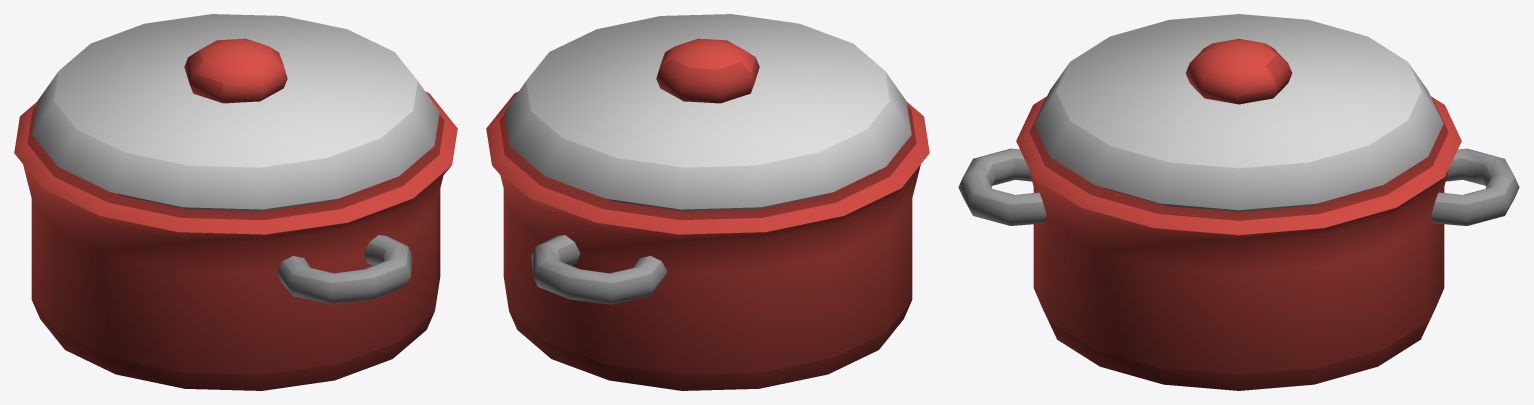
Rendered from pot.fbx.
The picture shows the model from 3 angles, left to right: view 1: azimuth 30°, elevation 25°; view 2: azimuth 150°, elevation 25°; view 3: azimuth 270°, elevation 25°; orthographic projection.
Visible parts, largest first — view 1: Circle; view 2: Circle; view 3: Circle.
Part boxes in pixels (x1,y1,x2,y2): Circle: [14, 14, 457, 390]; Circle: [486, 14, 929, 390]; Circle: [958, 14, 1519, 390].
Bounding box in the file's own units: 227 × 146 × 285.
